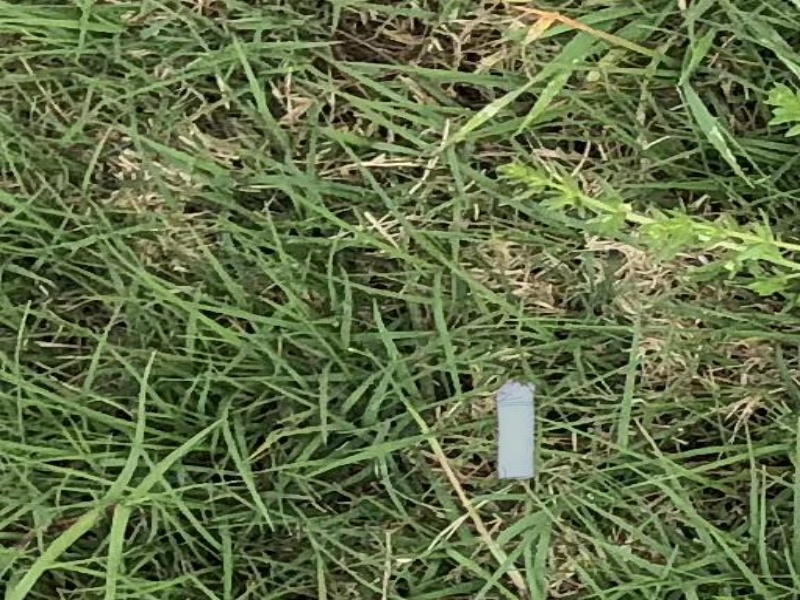cig: (491, 374, 543, 489)
